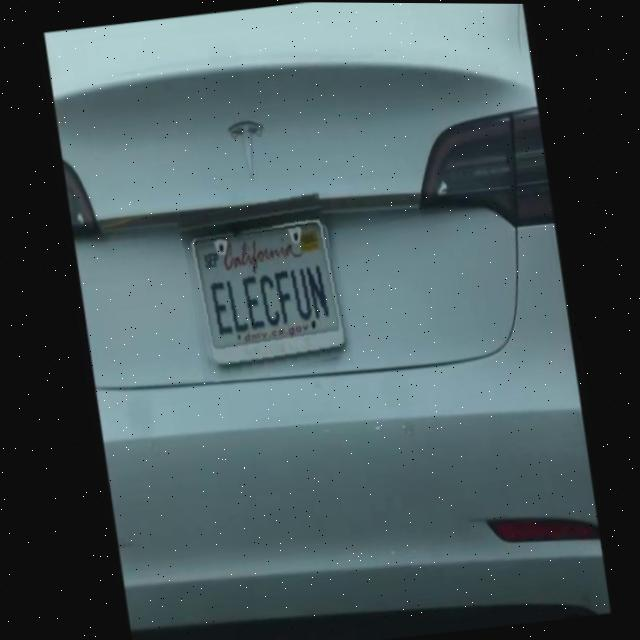LicensePlate: (177, 191, 352, 381)
